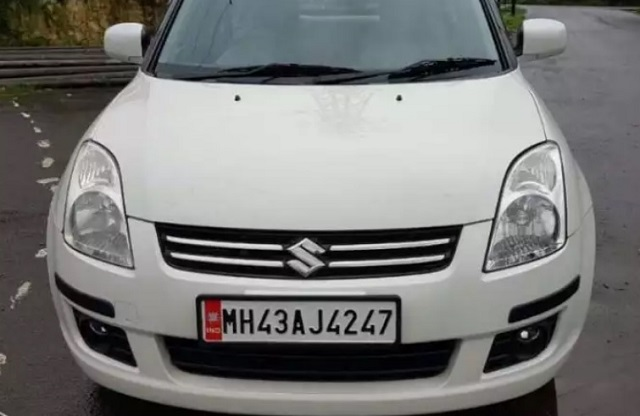licenseplate: (194, 294, 403, 347)
